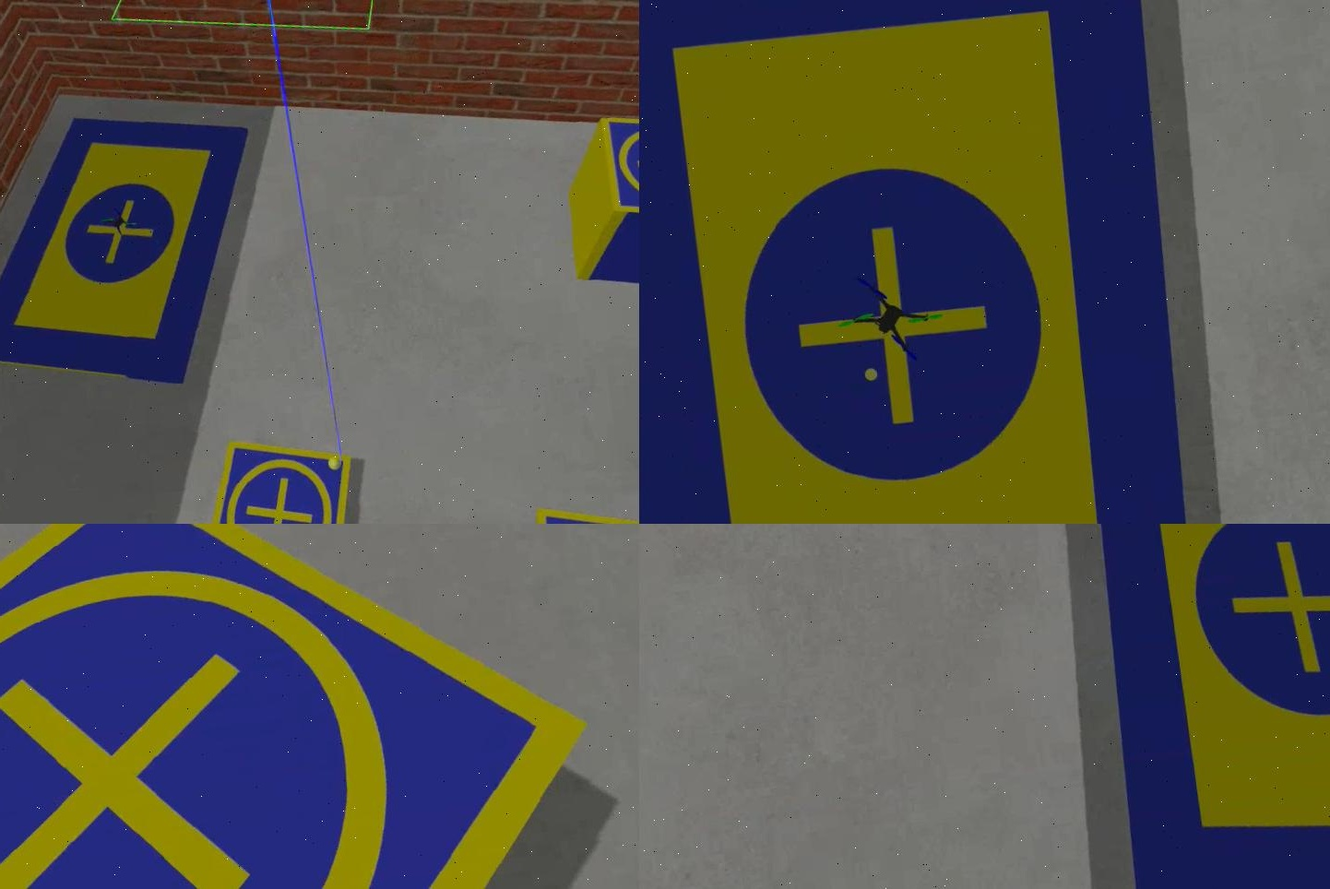large_base: (637, 1, 1223, 524), (1073, 524, 1328, 889), (0, 96, 279, 413)
small_base: (0, 524, 624, 889), (183, 426, 368, 524), (599, 102, 637, 243), (531, 488, 637, 524)
